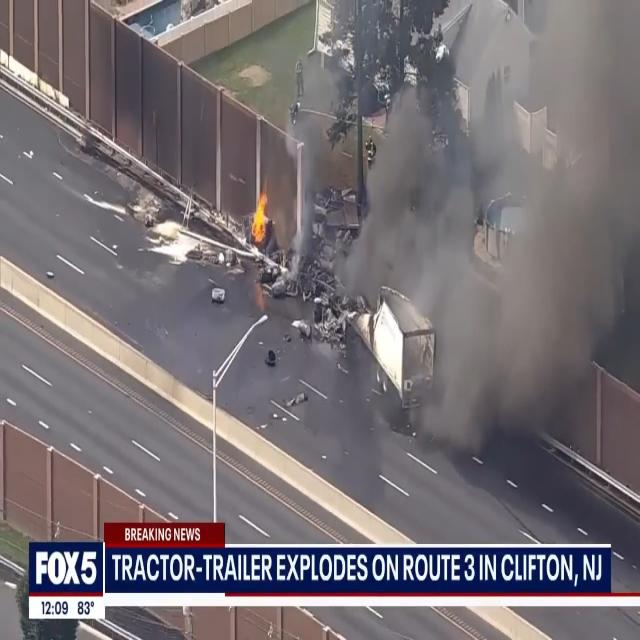fire: (247, 186, 271, 247)
